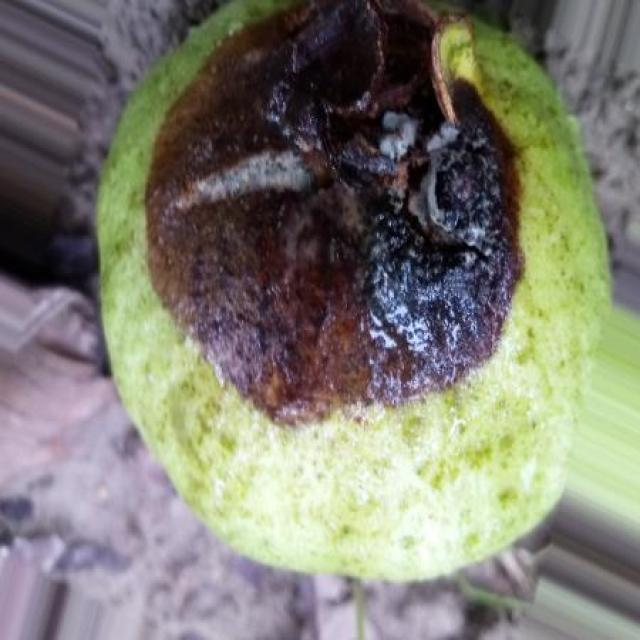Styler and Root: (145, 0, 520, 422)
